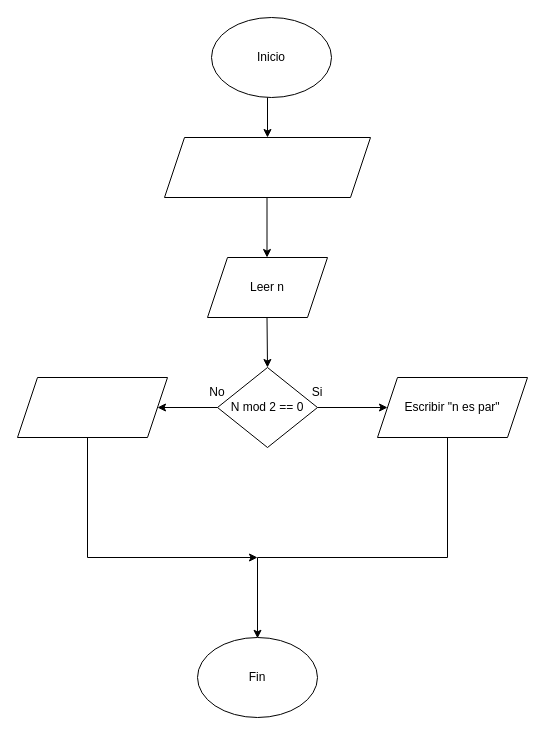
The diagram is 545 pixels wide and 735 high, and some of its shapes have lost their labels. The shapes that lost their labels are listed below. From the top down, each one's box as (x1, y1, x2, y2) in pixels, then its label:
(164, 136, 370, 198): Escribir "Ingrese un numero n"
(16, 376, 168, 438): Escribir "n es impar"
